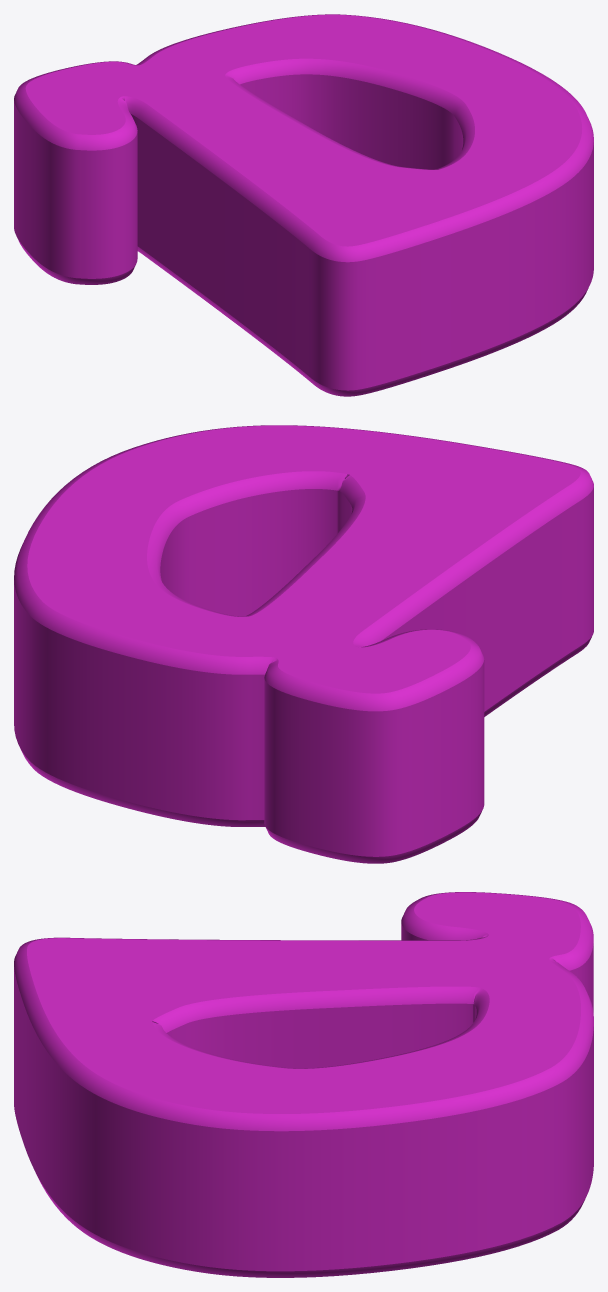
The model's file is Bubble_Letter_a.fbx.
The picture shows the model from 3 angles, top to bottom: view 1: azimuth 30°, elevation 25°; view 2: azimuth 150°, elevation 25°; view 3: azimuth 270°, elevation 25°; orthographic projection. The views are drawn at different scales.
Parts seen in each view (by area): view 1: BubbleLetter_a; view 2: BubbleLetter_a; view 3: BubbleLetter_a.
Part boxes in pixels (x1,y1,x2,y2): BubbleLetter_a: (14,14,593,396); BubbleLetter_a: (14,425,593,863); BubbleLetter_a: (14,892,593,1277).
Bounding box in the file's own units: 0.4272 × 0.14 × 0.4502.
